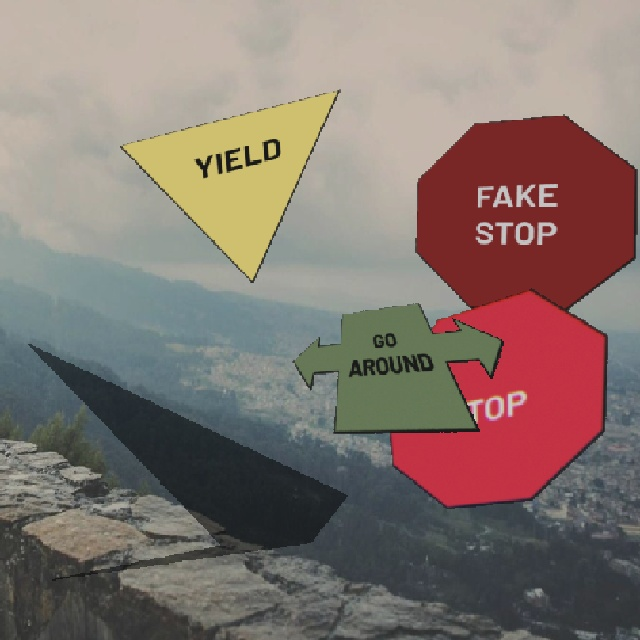FAKE_STOP: (414, 113, 636, 314)
GO_AROUND: (291, 301, 503, 433)
STOP: (385, 287, 607, 508)
YIELD: (117, 88, 339, 282)
